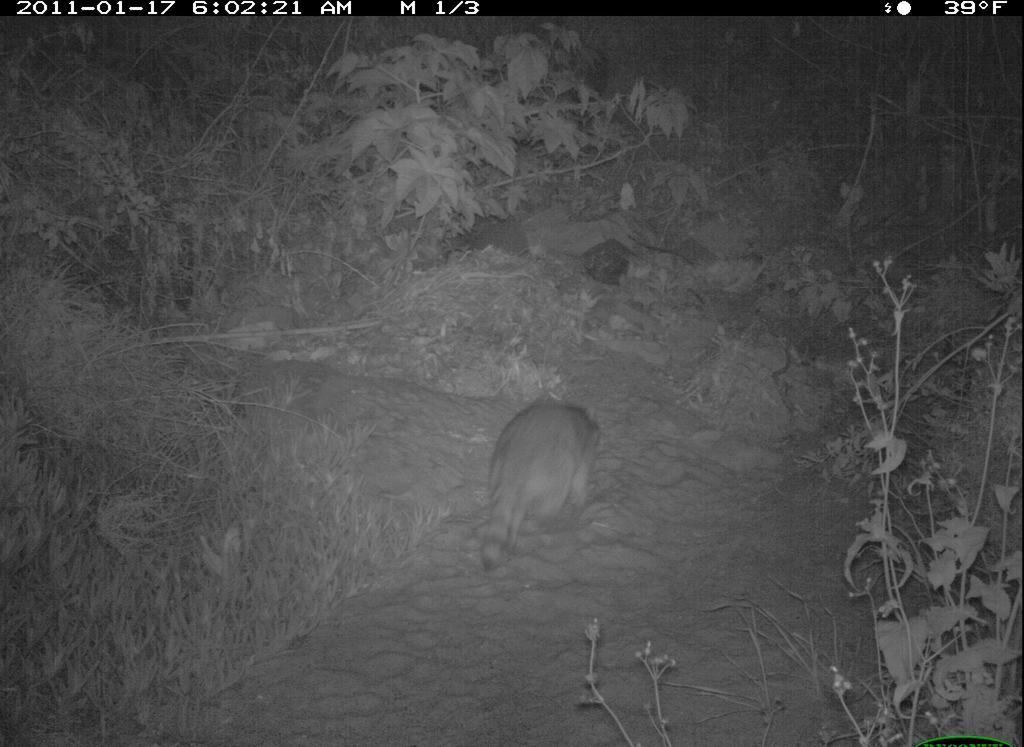raccoon: (474, 401, 611, 574)
